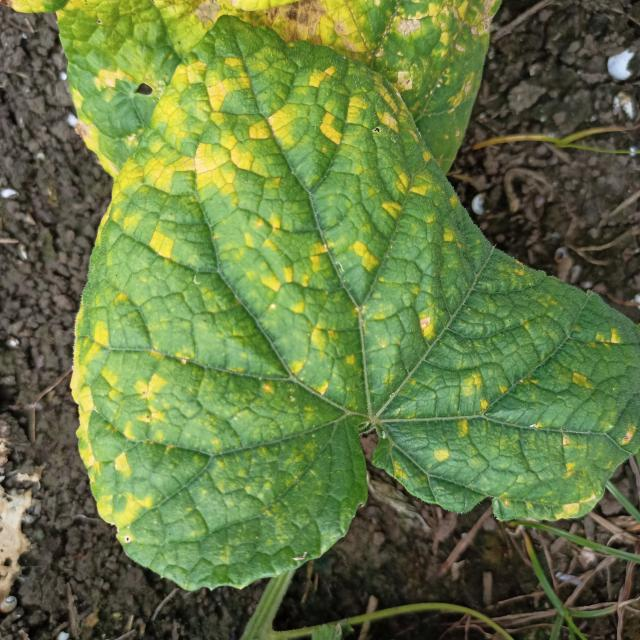disease_cucumber: (70, 29, 632, 546), (111, 0, 493, 144)
